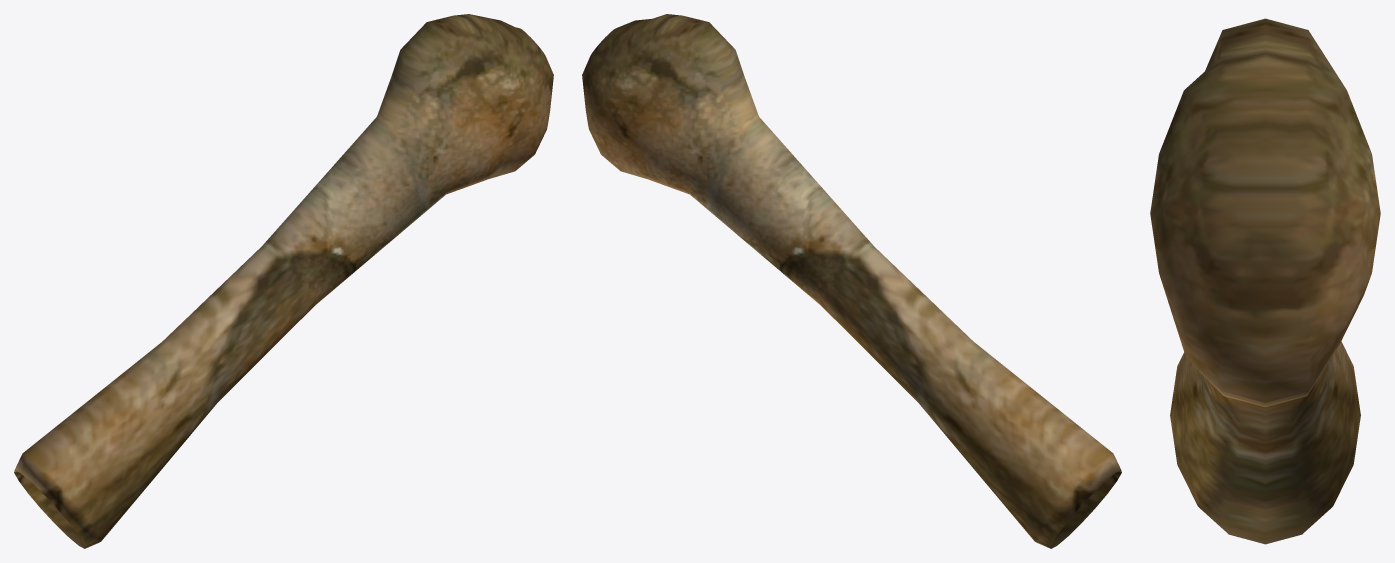
The model's file is bone.obj.
3 renders of one model, left to right at view 1: azimuth 30°, elevation 25°; view 2: azimuth 150°, elevation 25°; view 3: azimuth 270°, elevation 25°, orthographic. The views are drawn at different scales.
Visible parts, largest first — view 1: bone; view 2: bone; view 3: bone.
Part boxes in pixels (bbox=[...]): bone: bbox=[14, 14, 553, 548]; bone: bbox=[582, 14, 1121, 548]; bone: bbox=[1150, 18, 1380, 544].
Size of the model in its own units: 19.4 by 15.22 by 3.68.
Materials: 1 (1 with a texture image).
